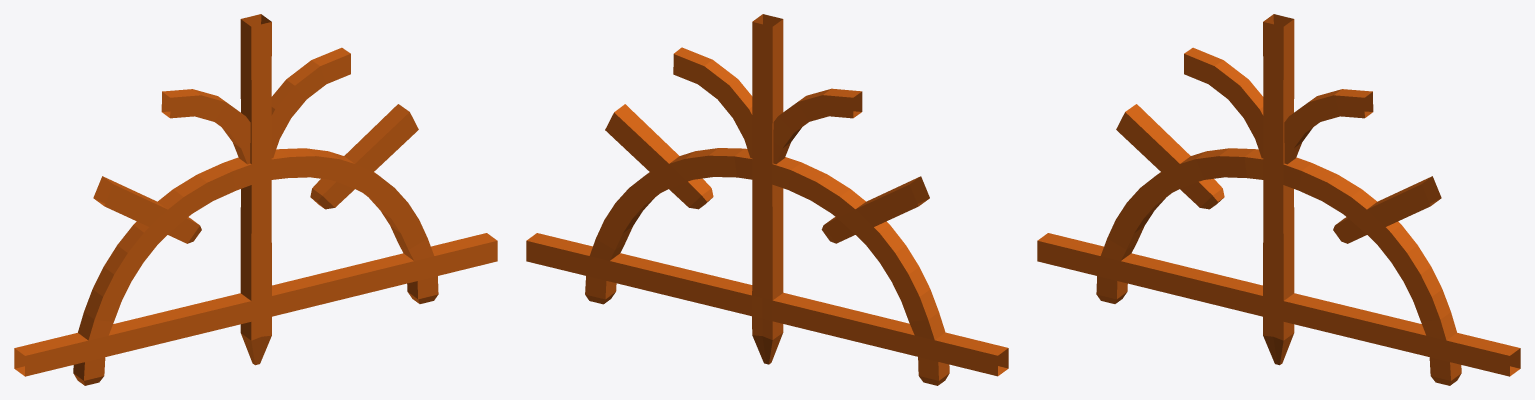
The model's file is dfk_beamwork_1.fbx.
3 views of the same model, side by side, from view 1: azimuth 30°, elevation 25°; view 2: azimuth 150°, elevation 25°; view 3: azimuth 330°, elevation 25° (orthographic).
Parts seen in each view (by area): view 1: Beamwork_1; view 2: Beamwork_1; view 3: Beamwork_1.
Part boxes in pixels (x1=…): Beamwork_1: x1=14, y1=14, x2=497, y2=385; Beamwork_1: x1=526, y1=14, x2=1008, y2=385; Beamwork_1: x1=1037, y1=14, x2=1520, y2=385.
Bounding box in the file's own units: 3.6 × 2.5 × 0.153.
